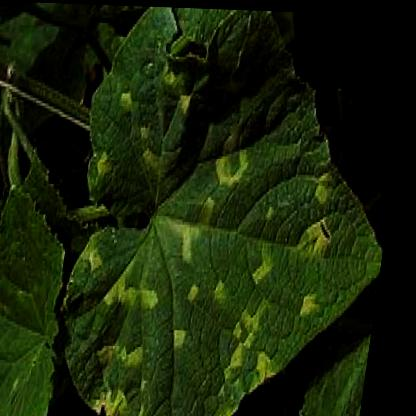DownyMildew: (146, 80, 309, 387), (166, 132, 344, 336), (73, 231, 250, 415), (93, 75, 260, 208)
